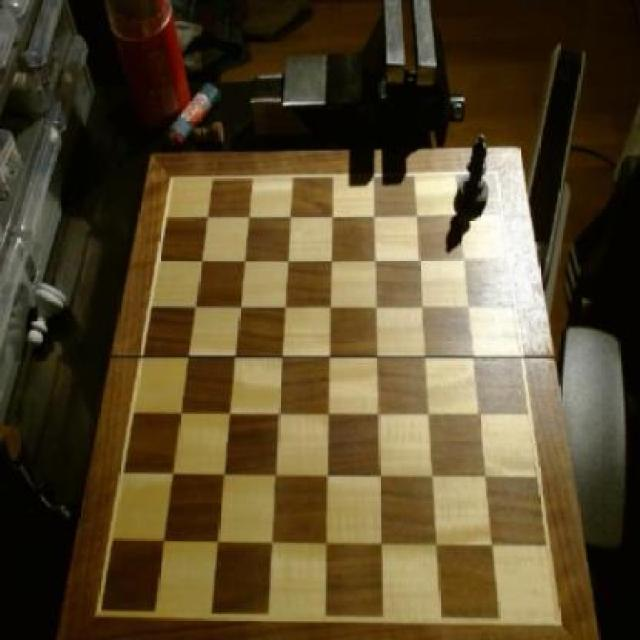bishop: (455, 131, 490, 215)
